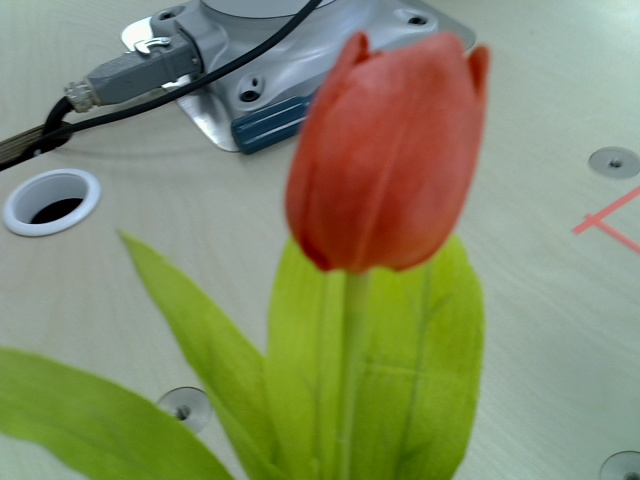튤립: (283, 29, 492, 273)
